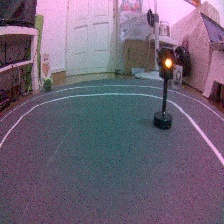amber: (150, 43, 179, 132)
